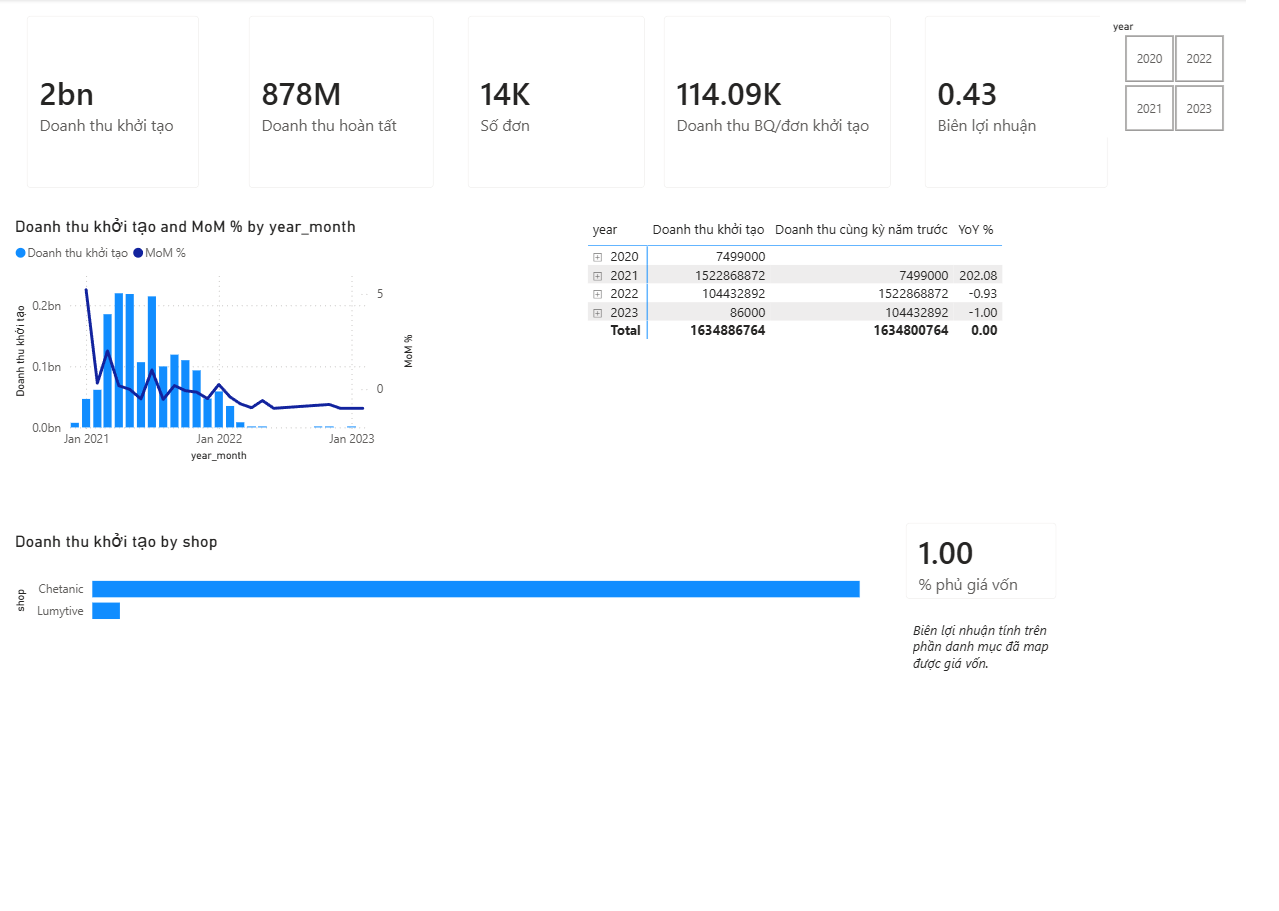

Layout of this report page (visuals, bound fields, positions):
{"tool":"powerbi","page":{"name":"Kinh doanh","canvas":[1280,720],"ordinal":0},"visuals":[{"type":"cardVisual","fields":{"Data":["_Measures.Doanh thu khởi tạo"]},"box":[9.7,0,210.1,210.1],"z":0},{"type":"cardVisual","fields":{"Data":["_Measures.Doanh thu hoàn tất"]},"box":[236.4,0,223.7,210.1],"z":1000},{"type":"cardVisual","fields":{"Data":["_Measures.Số đơn"]},"box":[460.1,0,215.9,210.1],"z":2000},{"type":"cardVisual","fields":{"Data":["_Measures.AOV"]},"box":[660.4,0,266.4,210.3],"z":3000},{"type":"cardVisual","fields":{"Data":["_Measures.Biên lợi nhuận"]},"box":[926.9,0,221.8,210.1],"z":4000},{"type":"lineClusteredColumnComboChart","fields":{"Category":["dim_date.year_month"],"Y":["_Measures.Doanh thu khởi tạo"],"Y2":["_Measures.MoM %"]},"box":[9.7,220.8,417.3,255.8],"z":5000},{"type":"pivotTable","fields":{"Rows":["dim_date.year","dim_date.month"],"Values":["_Measures.Doanh thu khởi tạo","_Measures.Doanh thu cùng kỳ năm trước","_Measures.YoY %"]},"box":[595.3,219.8,663.3,373.5],"z":6000},{"type":"barChart","fields":{"Category":["dim_order.shop"],"Y":["_Measures.Doanh thu khởi tạo"]},"box":[9.7,541.8,883.2,116.7],"z":7000},{"type":"cardVisual","fields":{"Data":["_Measures.% phủ giá vốn"]},"box":[907.5,517.4,188.7,112.8],"z":8000},{"type":"textbox","box":[926.9,630.3,149.8,69.1],"z":9000},{"type":"slicer","fields":{"Values":["dim_date.year"]},"box":[1122.4,16.5,149.8,125.5],"z":10000}]}

Visuals, with their boxes on the page's 1280x720 design canvas (x1, y1, x2, y2). These are canvas units, not pixel positions in the 1279x911 screenshot, which may show the page scaled, cropped or inside an application window:
cardVisual - _Measures.Doanh thu khởi tạo: detection(10, 0, 220, 210)
cardVisual - _Measures.Doanh thu hoàn tất: detection(236, 0, 460, 210)
cardVisual - _Measures.Số đơn: detection(460, 0, 676, 210)
cardVisual - _Measures.AOV: detection(660, 0, 927, 210)
cardVisual - _Measures.Biên lợi nhuận: detection(927, 0, 1149, 210)
lineClusteredColumnComboChart - dim_date.year_month x _Measures.Doanh thu khởi tạo: detection(10, 221, 427, 477)
pivotTable - dim_date.year x dim_date.month: detection(595, 220, 1259, 593)
barChart - dim_order.shop x _Measures.Doanh thu khởi tạo: detection(10, 542, 893, 658)
cardVisual - _Measures.% phủ giá vốn: detection(908, 517, 1096, 630)
textbox: detection(927, 630, 1077, 699)
slicer - dim_date.year: detection(1122, 16, 1272, 142)
